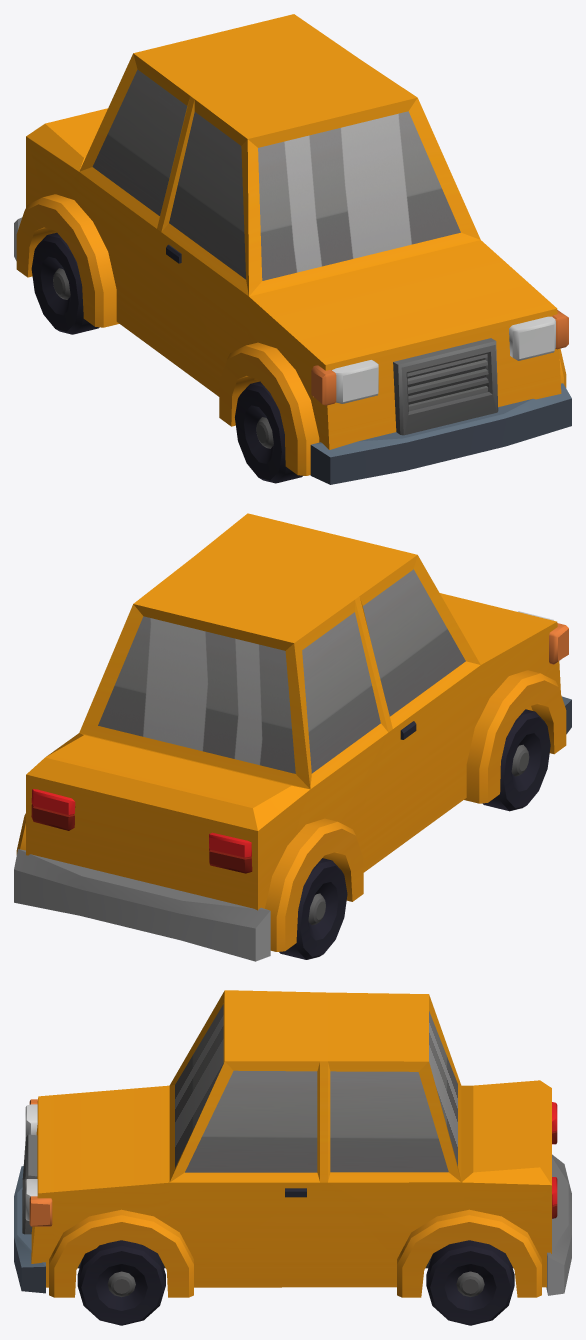
Rendered from Car_2_11.glb.
3 renders of one model, top to bottom at view 1: azimuth 30°, elevation 25°; view 2: azimuth 150°, elevation 25°; view 3: azimuth 270°, elevation 25°, orthographic. The views are drawn at different scales.
Parts seen in each view (by area): view 1: Car_2_11, W_BR, W_FR; view 2: Car_2_11, W_FR, W_BR; view 3: Car_2_11, W_BL, W_FL.
Part boxes in pixels (x1,y1,x2,y2): Car_2_11: (14, 14, 571, 484); W_BR: (31, 232, 99, 334); W_FR: (235, 381, 302, 483); Car_2_11: (14, 513, 571, 961); W_FR: (482, 709, 550, 811); W_BR: (279, 858, 347, 959); Car_2_11: (14, 990, 571, 1297); W_BL: (426, 1240, 514, 1325); W_FL: (77, 1240, 165, 1325).
Size of the model in its own units: 1.09 by 1.11 by 2.28.
5 materials, 5 textured.
